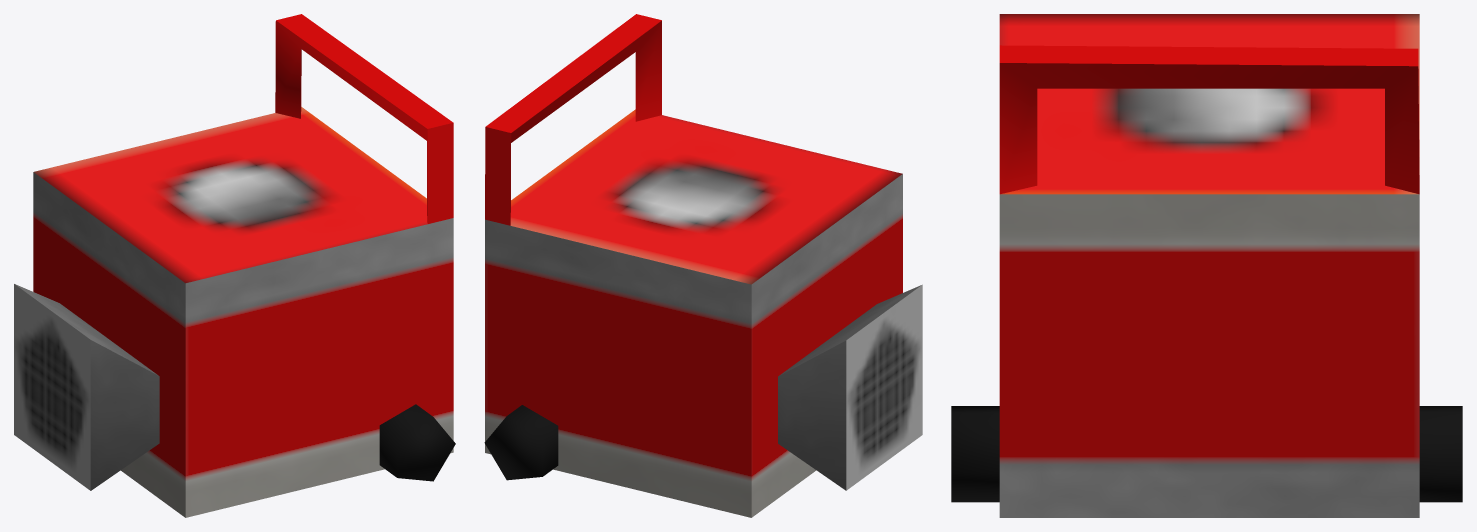
The model's file is Portable_Generator.fbx.
3 views of the same model, side by side, from view 1: azimuth 30°, elevation 25°; view 2: azimuth 150°, elevation 25°; view 3: azimuth 270°, elevation 25° (orthographic). The views are drawn at different scales.
Parts seen in each view (by area): view 1: Portable_Generator_1; view 2: Portable_Generator_1; view 3: Portable_Generator_1.
Part boxes in pixels (<box>): Portable_Generator_1: <box>14,14,455,517</box>; Portable_Generator_1: <box>484,14,922,517</box>; Portable_Generator_1: <box>951,14,1462,517</box>.
Size of the model in its own units: 97.06 by 96.05 by 95.82.
